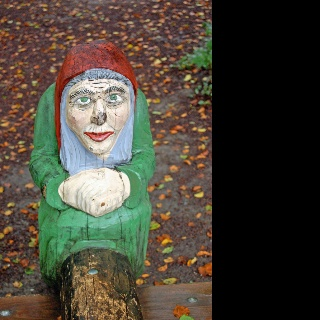without_mask: (65, 78, 130, 154)
